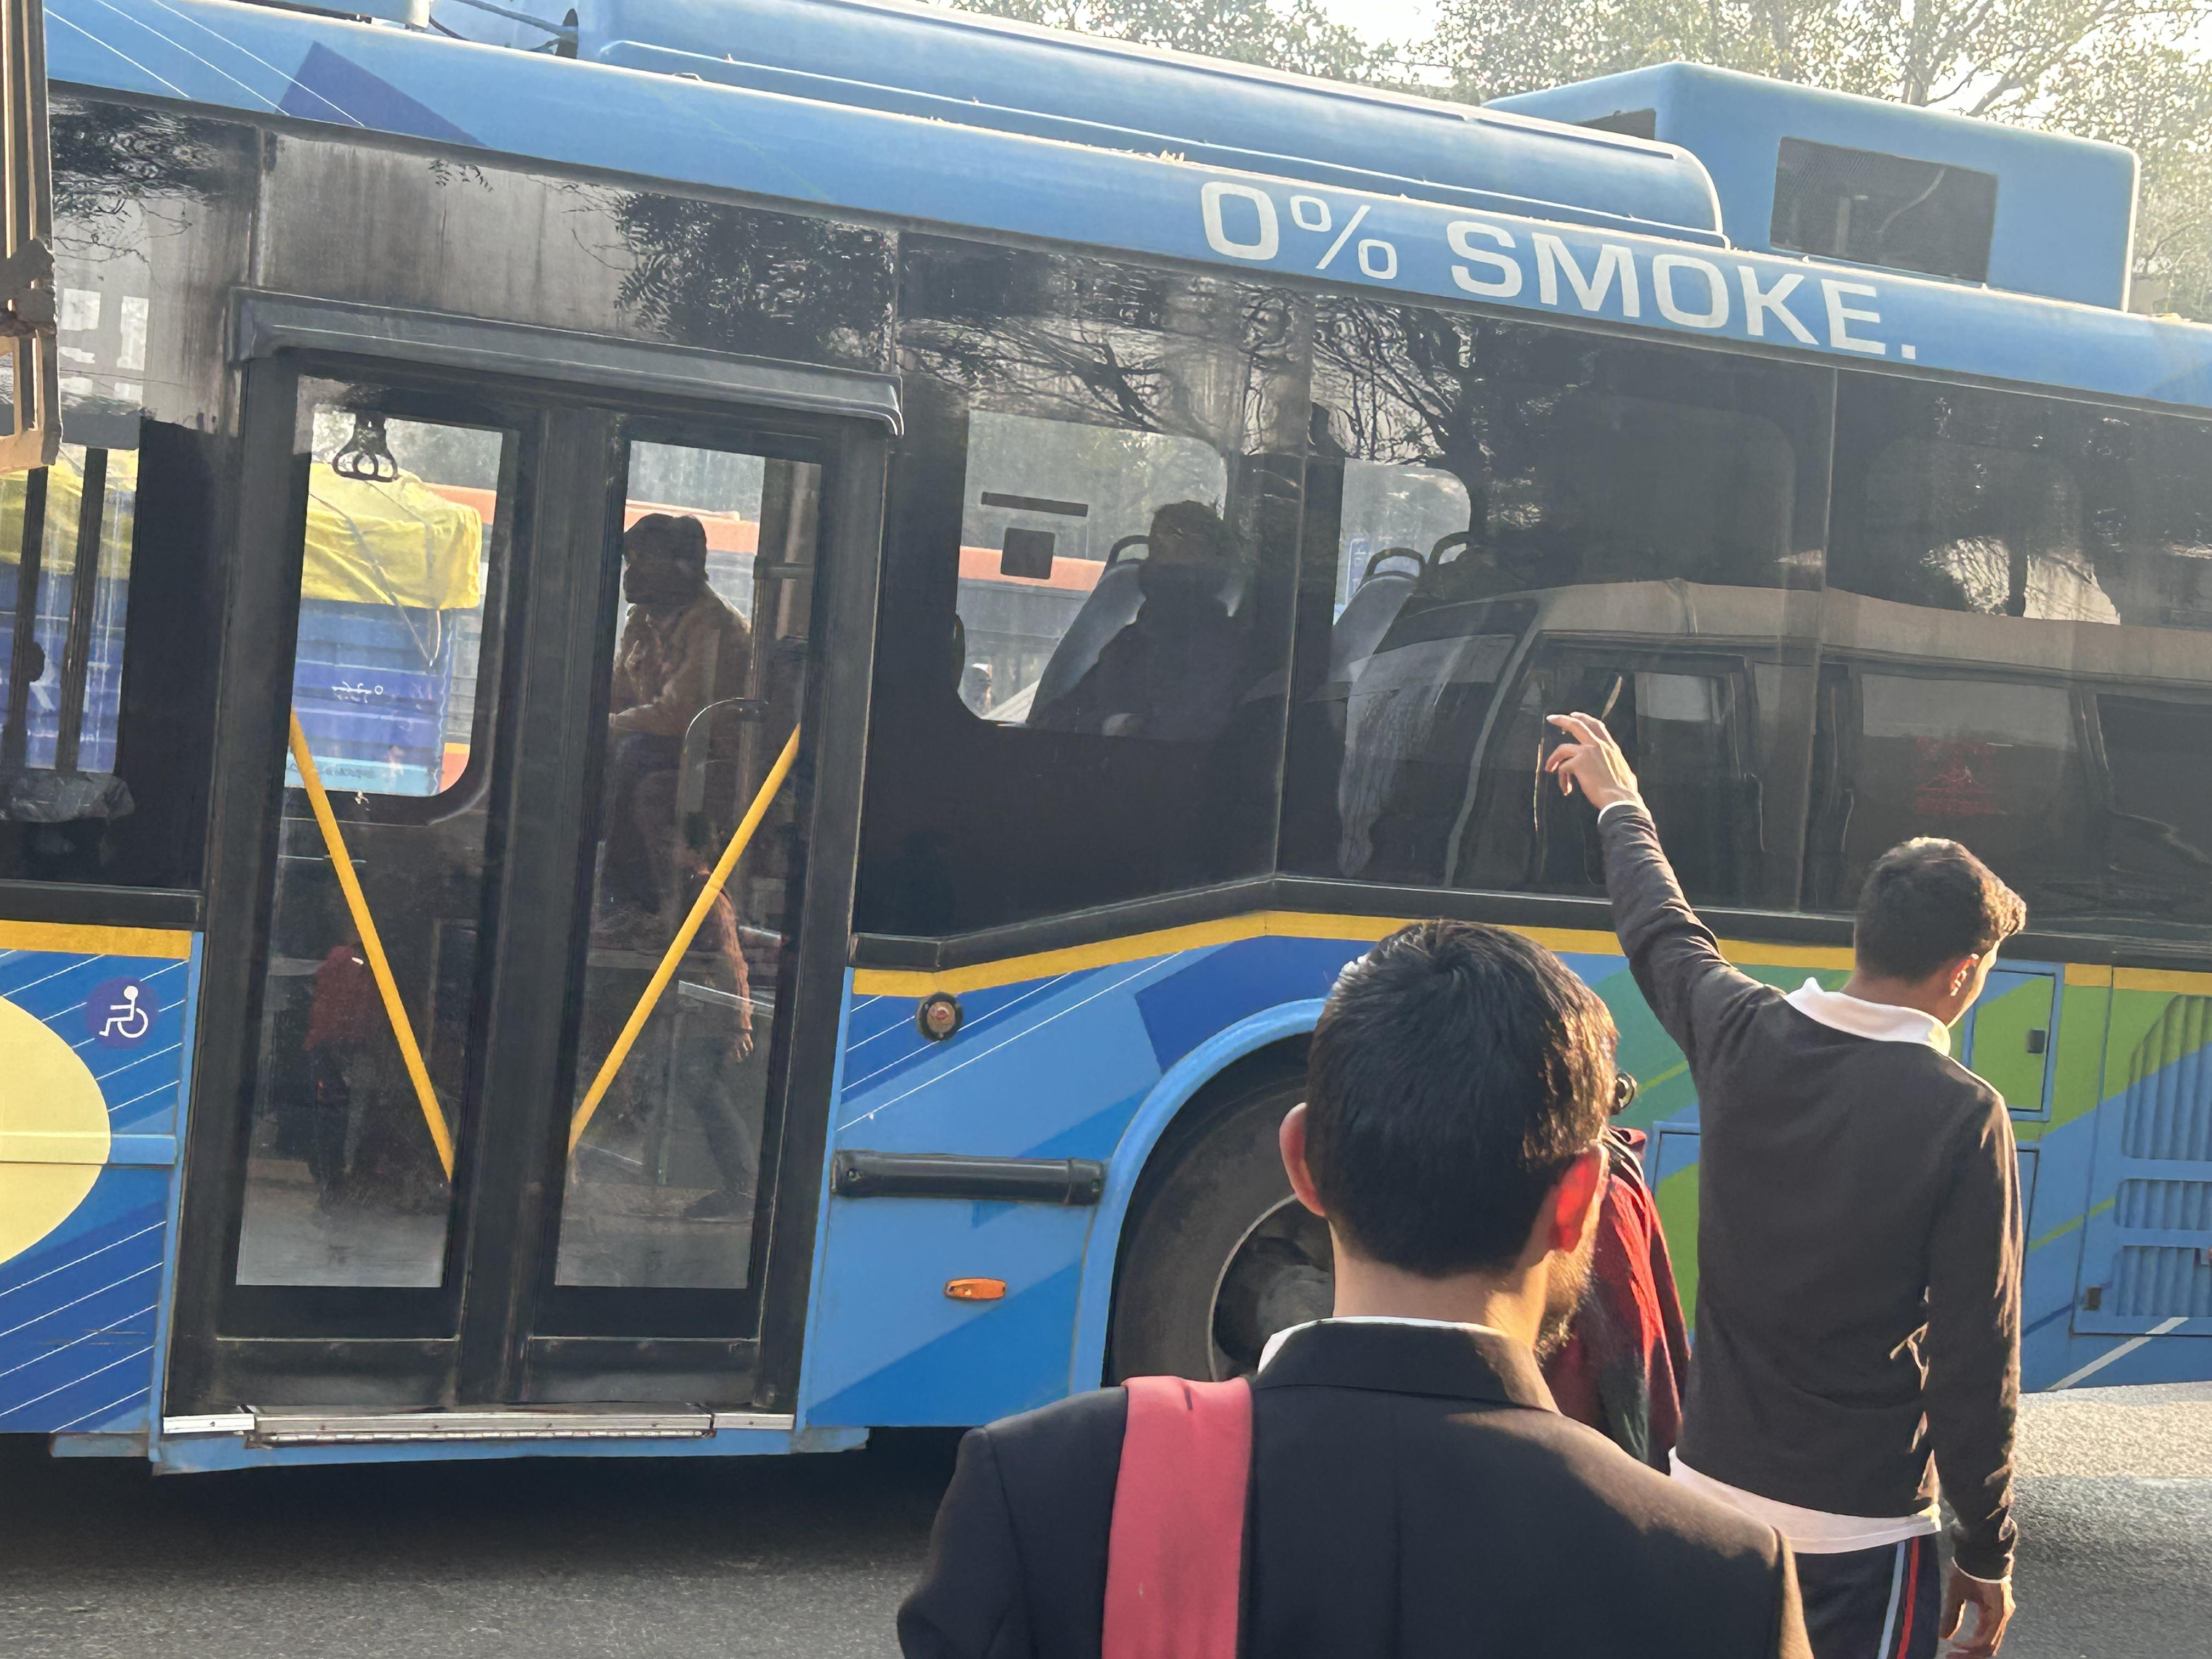Bus: (0, 0, 2212, 1530)
